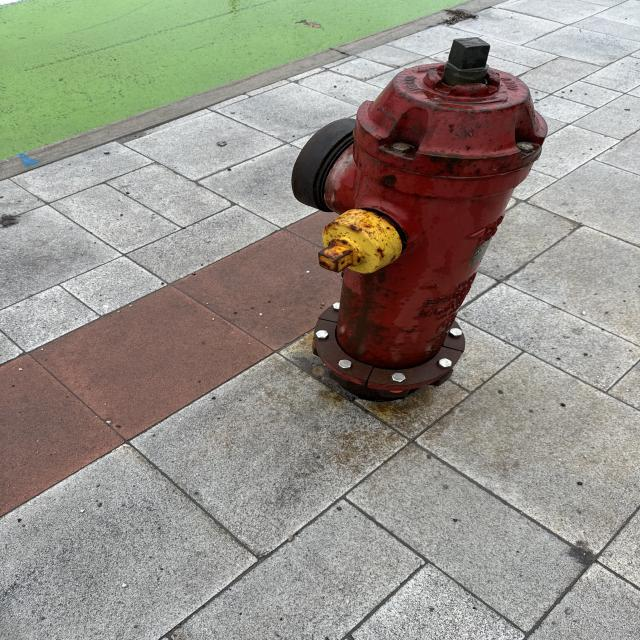Fire hydrant: (290, 37, 549, 401)
